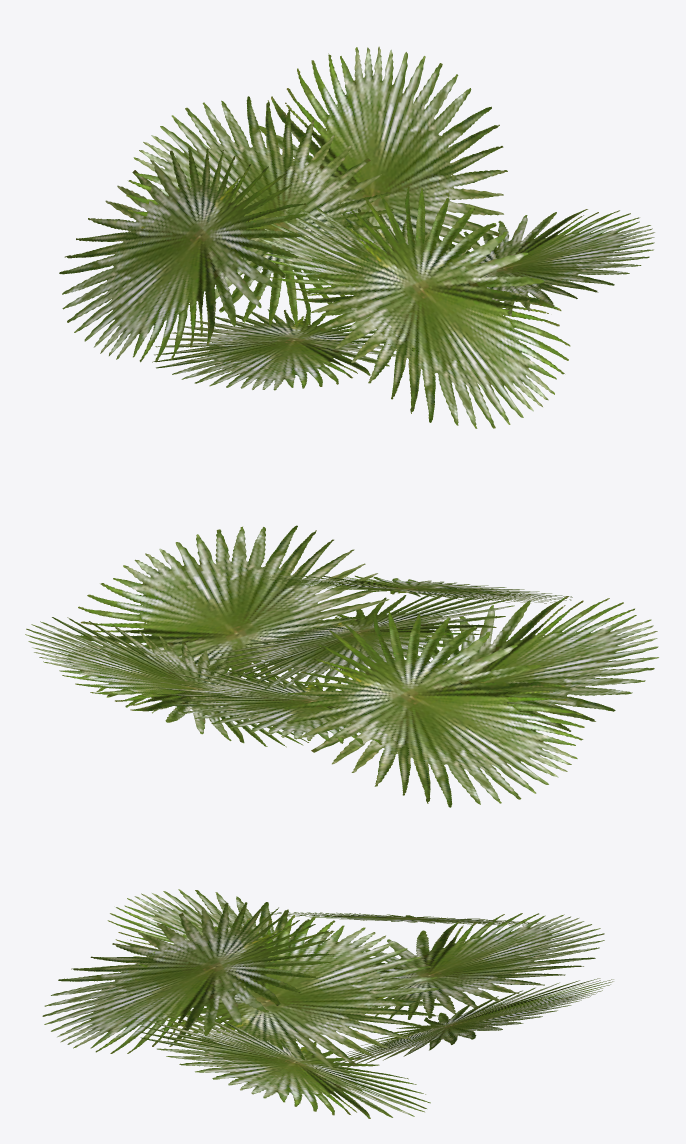
File: plant_tropic_ferns_1.dae
3 views of the same model, one above another, from view 1: azimuth 30°, elevation 25°; view 2: azimuth 150°, elevation 25°; view 3: azimuth 270°, elevation 25° (orthographic). The views are drawn at different scales.
Parts seen in each view (by area): view 1: Object48-Pivot; view 2: Object48-Pivot; view 3: Object48-Pivot.
Part boxes in pixels (box(x1,y1,x2,y2)): Object48-Pivot: box(59, 46, 654, 428); Object48-Pivot: box(25, 525, 658, 807); Object48-Pivot: box(42, 889, 613, 1118).
Bounding box in the file's own units: 6.2 × 6.6 × 1.47.
